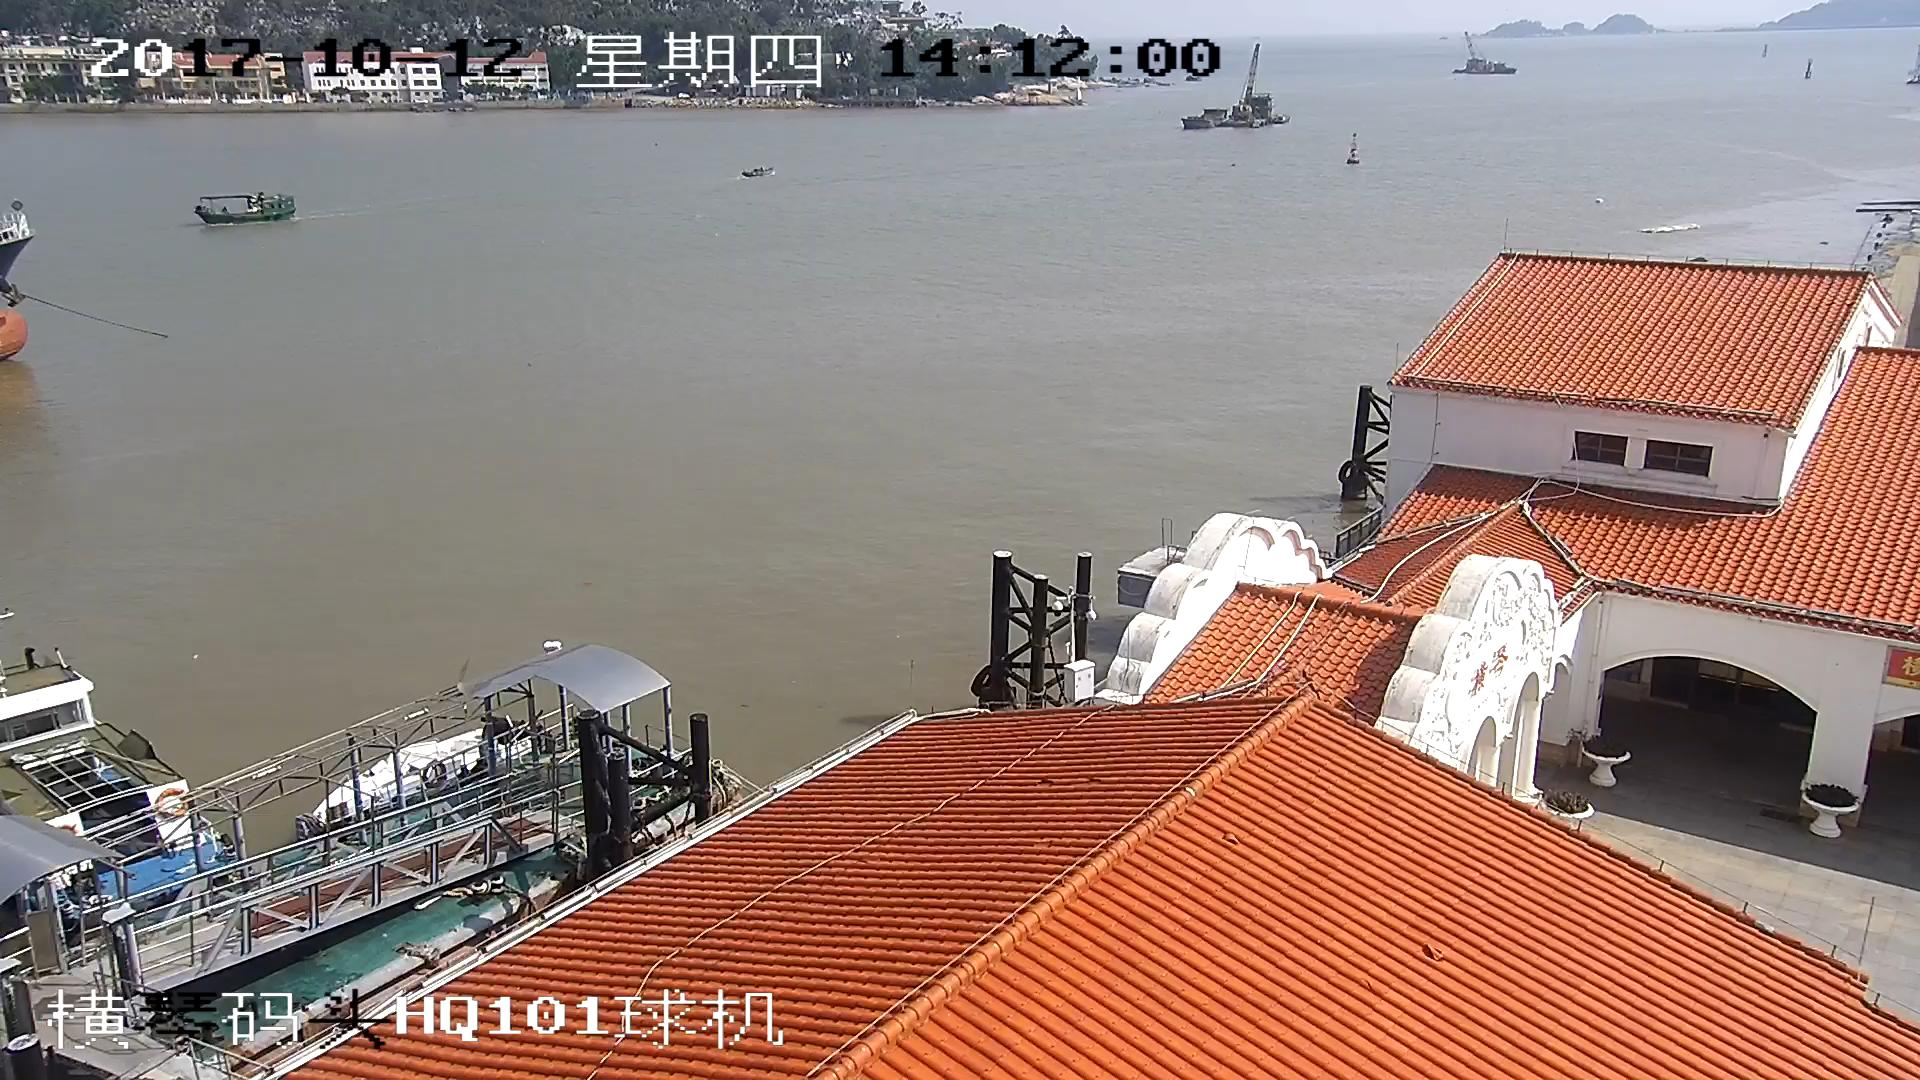fishing boat: (191, 192, 297, 226)
